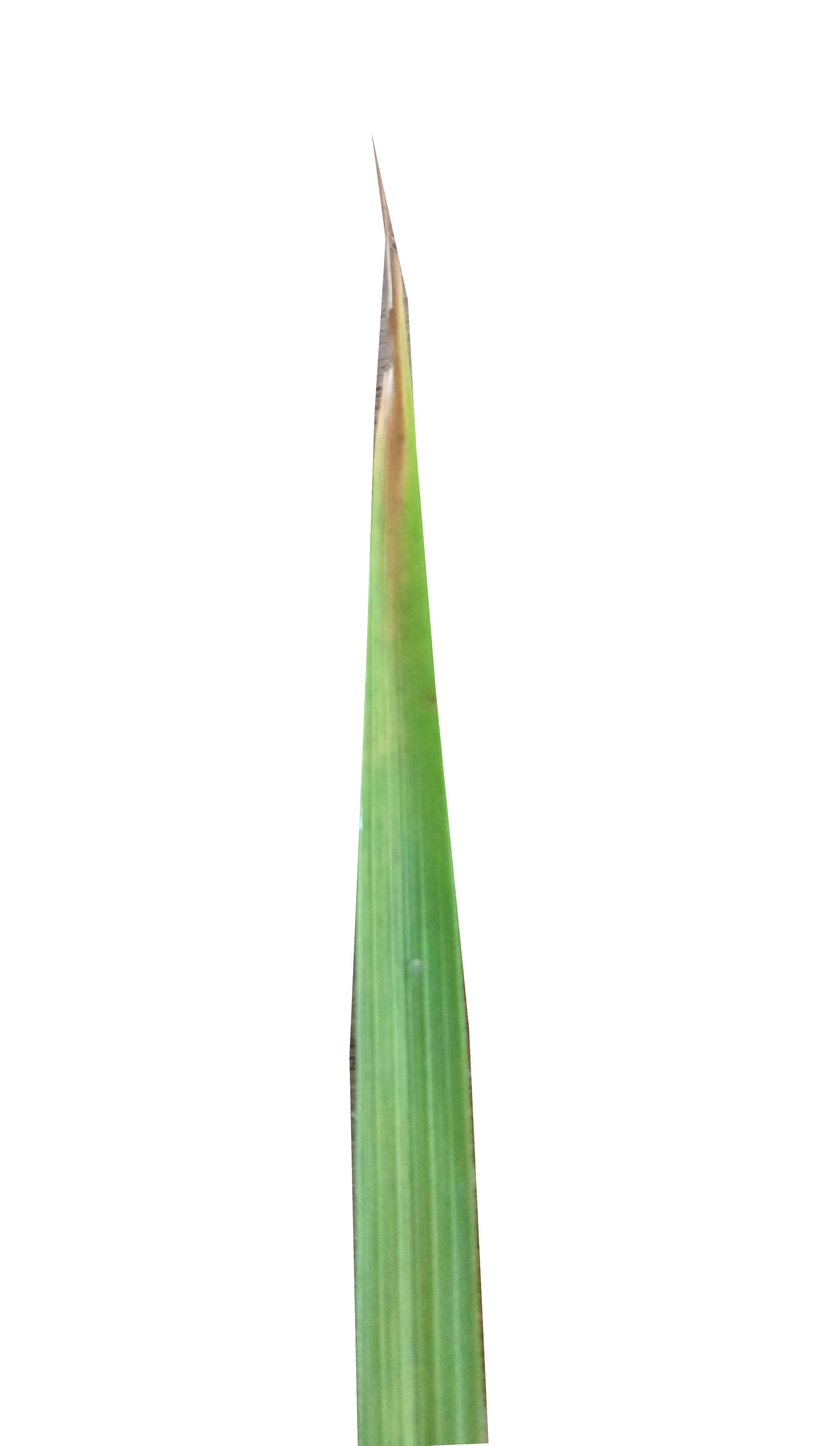Tungro: (361, 275, 462, 907)
